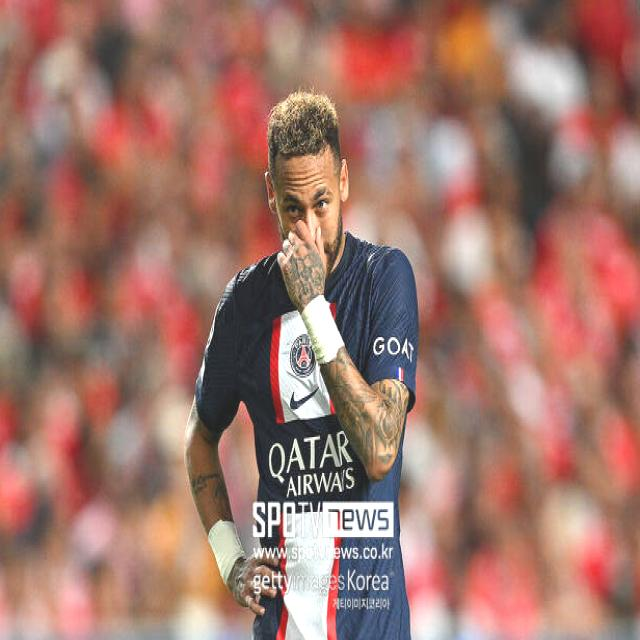neymar: (262, 113, 353, 272)
